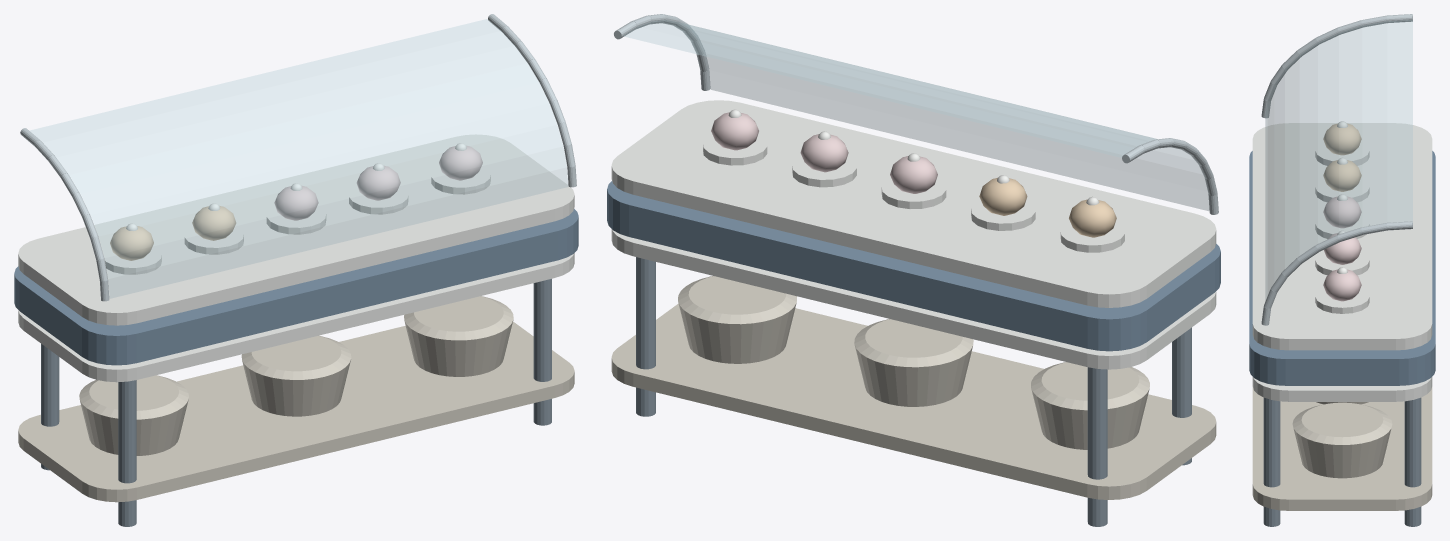
Rendered from restaurant_pastry_display.glb.
3 views of the same model, side by side, from view 1: azimuth 30°, elevation 25°; view 2: azimuth 150°, elevation 25°; view 3: azimuth 270°, elevation 25° (orthographic). The views are drawn at different scales.
Visible parts, largest first — view 1: decor_88b9ca_glass, decor_d8dcd8_matte, decor_aaa493_matte, decor_354d66_matte, decor_455665_metal, decor_9aadb8_metal, decor_c5a5a8_matte, decor_c6a176_matte; view 2: decor_d8dcd8_matte, decor_aaa493_matte, decor_88b9ca_glass, decor_354d66_matte, decor_455665_metal, decor_c5a5a8_matte, decor_9aadb8_metal, decor_c6a176_matte; view 3: decor_d8dcd8_matte, decor_88b9ca_glass, decor_aaa493_matte, decor_354d66_matte, decor_455665_metal, decor_9aadb8_metal, decor_c5a5a8_matte, decor_c6a176_matte.
Part boxes in pixels (x1,y1,x2,y2): decor_88b9ca_glass: (30, 19, 567, 298); decor_d8dcd8_matte: (18, 134, 574, 382); decor_aaa493_matte: (18, 296, 574, 502); decor_354d66_matte: (14, 209, 578, 365); decor_455665_metal: (41, 279, 551, 526); decor_9aadb8_metal: (20, 14, 576, 301); decor_c5a5a8_matte: (274, 146, 482, 220); decor_c6a176_matte: (110, 206, 235, 260); decor_d8dcd8_matte: (611, 100, 1216, 369); decor_aaa493_matte: (611, 276, 1216, 499); decor_88b9ca_glass: (623, 20, 1209, 210); decor_354d66_matte: (607, 181, 1220, 351); decor_455665_metal: (636, 257, 1191, 526); decor_c5a5a8_matte: (711, 112, 937, 193); decor_9aadb8_metal: (614, 14, 1218, 214); decor_c6a176_matte: (979, 177, 1116, 237); decor_d8dcd8_matte: (1252, 121, 1432, 401); decor_88b9ca_glass: (1265, 20, 1412, 300); decor_aaa493_matte: (1252, 387, 1432, 510); decor_354d66_matte: (1249, 151, 1435, 385); decor_455665_metal: (1263, 397, 1421, 526); decor_9aadb8_metal: (1261, 14, 1412, 325); decor_c5a5a8_matte: (1323, 196, 1361, 301); decor_c6a176_matte: (1323, 123, 1361, 191).
Bounding box in the file's own units: 2.27 × 1.52 × 0.82.
